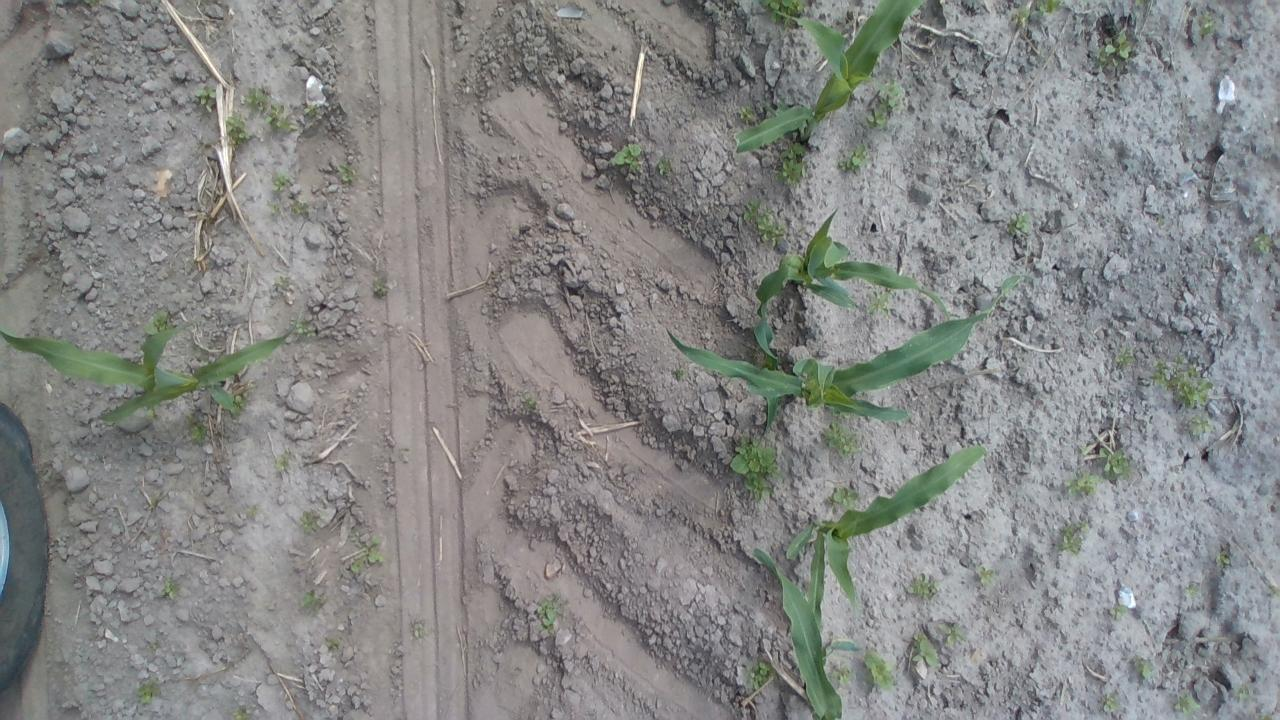Maize: (664, 276, 1025, 449), (785, 443, 989, 638), (750, 208, 950, 370), (0, 324, 299, 428), (732, 0, 928, 157), (750, 545, 844, 720)
Weeds: (729, 432, 786, 504), (1150, 354, 1214, 409), (243, 84, 299, 133), (740, 196, 786, 250), (348, 526, 386, 575), (821, 420, 863, 460), (774, 142, 810, 186), (1097, 30, 1136, 70), (862, 646, 897, 689), (758, 0, 808, 30), (871, 78, 908, 112), (1097, 446, 1134, 480), (608, 140, 642, 174), (1058, 520, 1089, 556), (910, 631, 940, 668), (836, 141, 870, 173), (1064, 471, 1102, 498), (536, 594, 560, 635), (144, 309, 178, 337), (743, 660, 772, 692), (826, 486, 860, 512), (302, 591, 336, 616), (225, 117, 254, 146), (192, 82, 218, 112), (904, 573, 936, 597), (866, 288, 891, 318), (135, 678, 162, 704), (296, 508, 321, 536), (1006, 211, 1034, 234), (938, 622, 964, 646), (1186, 415, 1214, 437), (1174, 693, 1200, 715), (228, 391, 251, 415), (1250, 232, 1274, 254), (831, 665, 856, 686), (1034, 0, 1064, 17), (190, 422, 210, 447), (863, 110, 888, 130), (158, 574, 177, 600), (1102, 693, 1124, 714), (335, 162, 355, 184), (1137, 657, 1156, 679), (735, 103, 758, 121), (270, 172, 290, 192), (976, 565, 994, 586), (304, 101, 324, 119), (1200, 14, 1218, 34), (1012, 5, 1030, 24), (288, 198, 308, 215), (1115, 348, 1136, 364), (1214, 548, 1230, 568), (518, 394, 538, 410), (372, 274, 387, 295), (295, 322, 317, 336), (272, 454, 289, 472), (231, 708, 255, 720), (1184, 582, 1201, 598), (656, 158, 670, 177), (1109, 604, 1128, 618), (144, 406, 159, 423), (413, 622, 426, 640), (1235, 686, 1251, 700), (674, 367, 690, 381), (246, 504, 258, 519), (36, 472, 56, 481), (270, 202, 281, 218), (276, 274, 288, 286), (326, 638, 338, 650), (84, 0, 104, 7), (1256, 712, 1273, 720), (777, 96, 786, 109), (1079, 446, 1090, 454), (1271, 590, 1280, 599), (1134, 0, 1144, 6), (1079, 0, 1088, 5)
